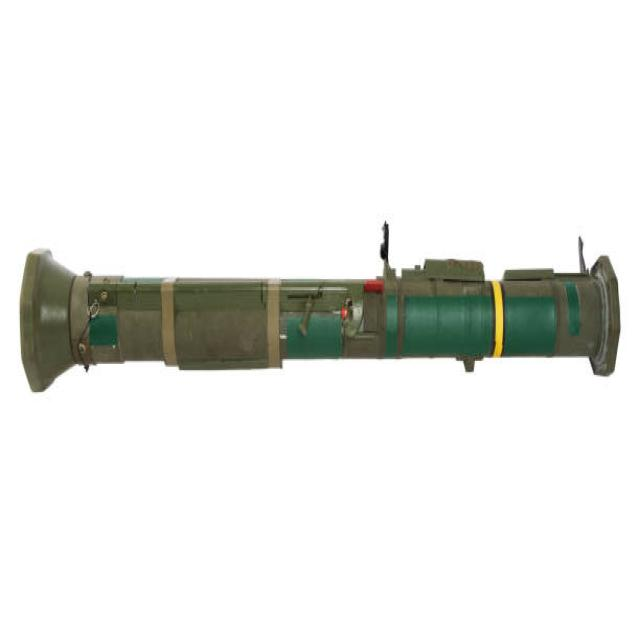bazooka: (21, 221, 629, 401)
